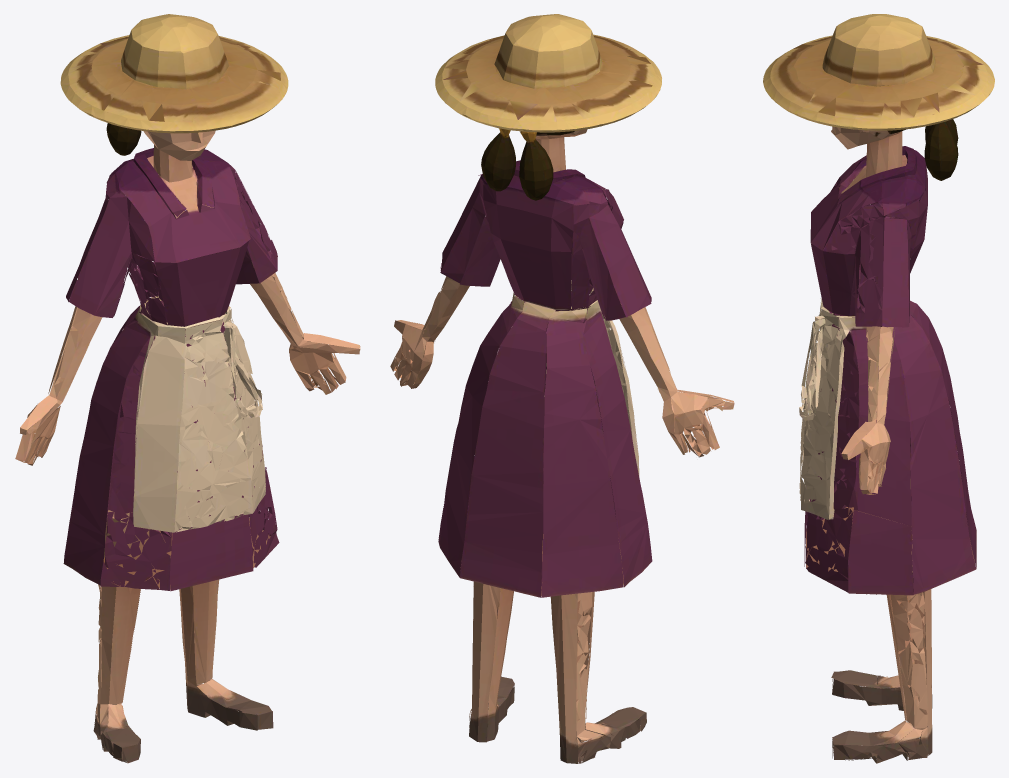
Rendered from habitant.glb.
3 renders of one model, left to right at view 1: azimuth 30°, elevation 25°; view 2: azimuth 150°, elevation 25°; view 3: azimuth 270°, elevation 25°, orthographic.
Parts seen in each view (by area): view 1: world; view 2: world; view 3: world.
Part boxes in pixels (x1,y1,x2,y2): world: (15,14,360,763); world: (390,14,734,763); world: (763,14,994,763).
Size of the model in its own units: 0.5012 by 1 by 0.2964.
Materials: 1 (1 with a texture image).
